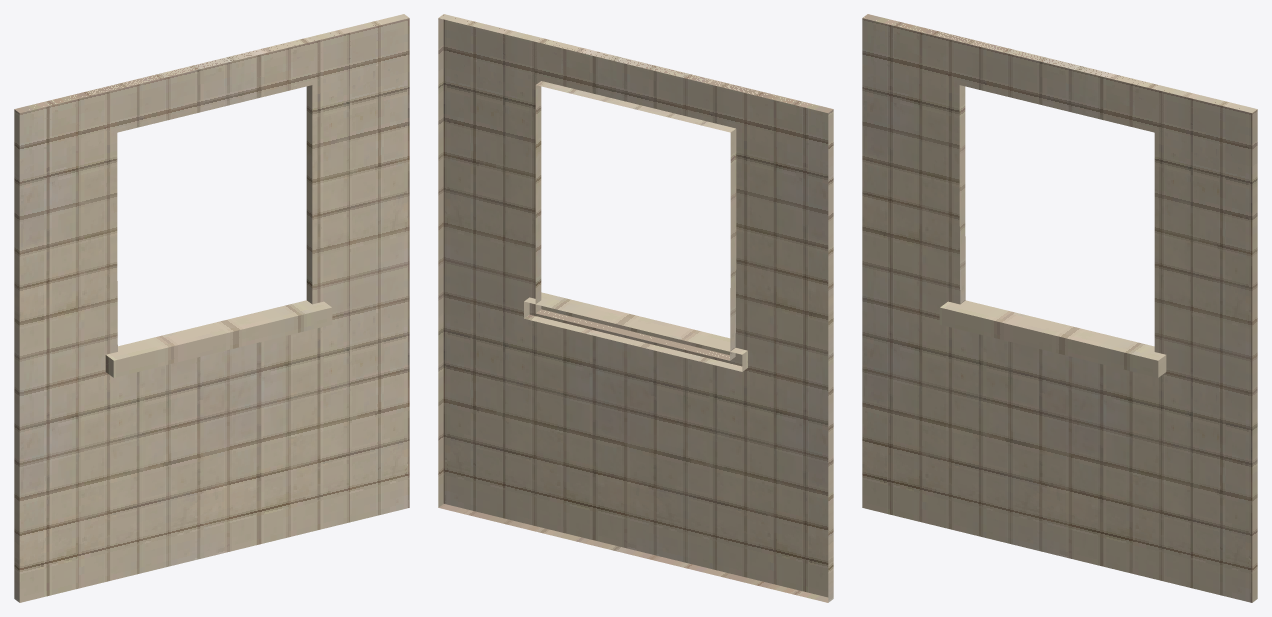
Rendered from window_wall7.glb.
The picture shows the model from 3 angles, left to right: view 1: azimuth 30°, elevation 25°; view 2: azimuth 150°, elevation 25°; view 3: azimuth 330°, elevation 25°; orthographic projection.
Parts seen in each view (by area): view 1: window_wall7; view 2: window_wall7; view 3: window_wall7.
Boxes of the visible parts, x1=… form: window_wall7: x1=14, y1=14, x2=409, y2=602; window_wall7: x1=438, y1=14, x2=833, y2=602; window_wall7: x1=862, y1=14, x2=1257, y2=602.
Size of the model in its own units: 2 by 2.4 by 0.1226.
1 material, 1 textured.
